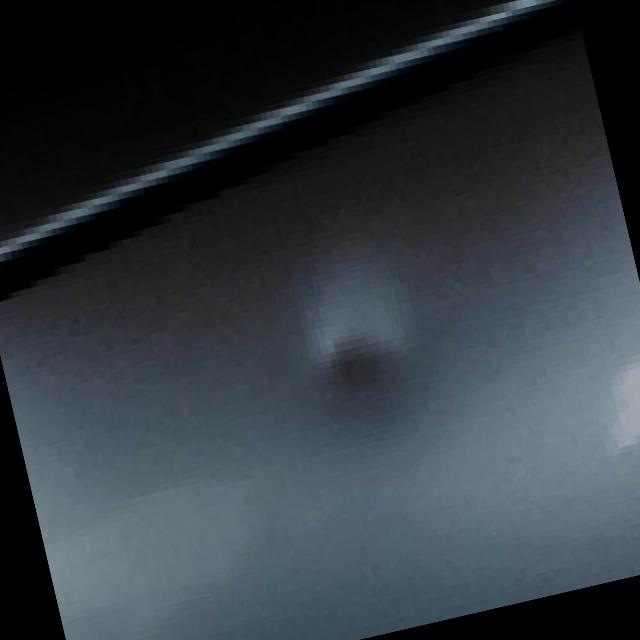dent: (291, 293, 448, 453)
